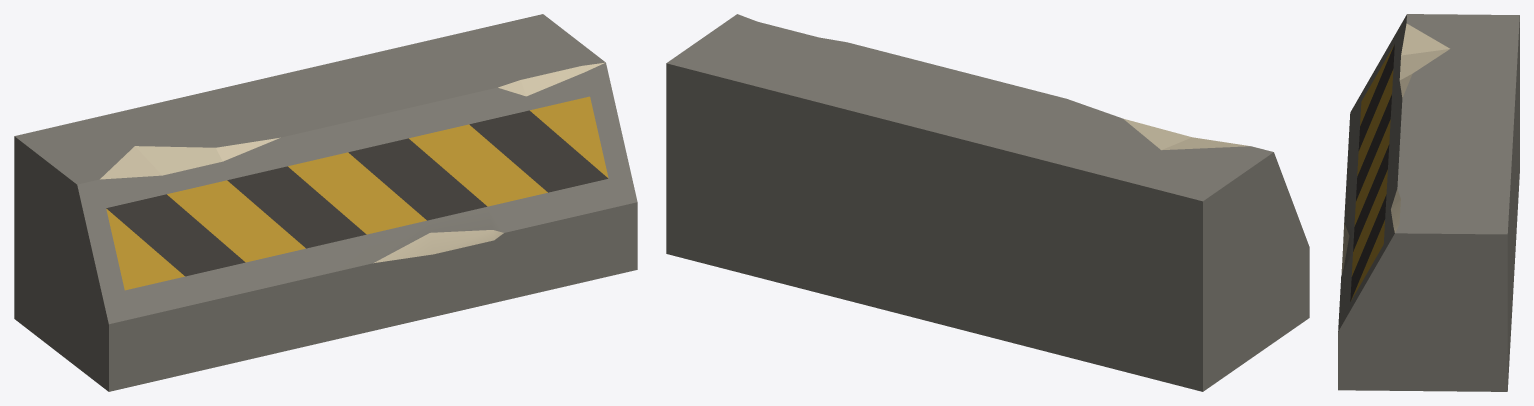
The model's file is cc0-barrier-single-lod0.glb.
3 renders of one model, left to right at view 1: azimuth 30°, elevation 25°; view 2: azimuth 150°, elevation 25°; view 3: azimuth 270°, elevation 25°, orthographic. The views are drawn at different scales.
Parts seen in each view (by area): view 1: part_0; view 2: part_0; view 3: part_0.
Part boxes in pixels (left/top/right/bottom): part_0: left=14, top=14, right=637, bottom=391; part_0: left=666, top=14, right=1309, bottom=391; part_0: left=1338, top=14, right=1519, bottom=391.
Size of the model in its own units: 1.89 by 0.6281 by 0.6569.
